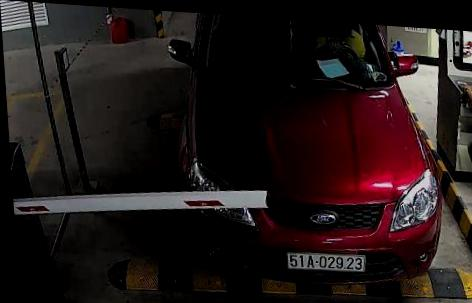License_Plate: (287, 247, 367, 274)
